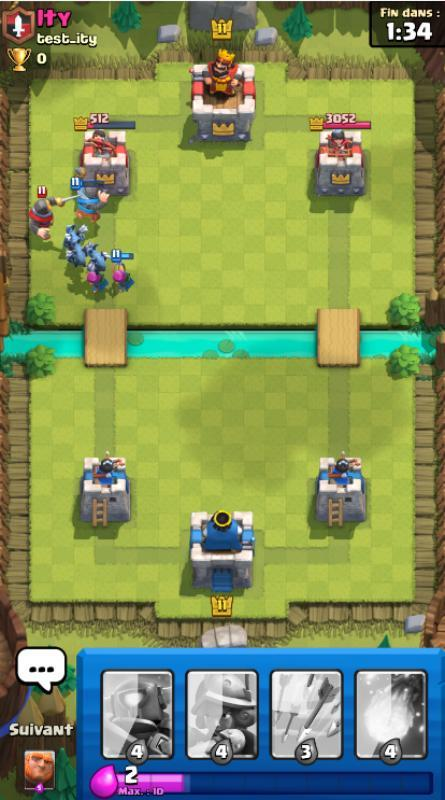archere: (111, 250, 136, 293), (86, 269, 109, 294)
chevalier: (29, 186, 81, 241), (71, 167, 110, 223)
gargouille: (65, 242, 95, 268), (85, 244, 110, 273), (63, 223, 88, 251)
